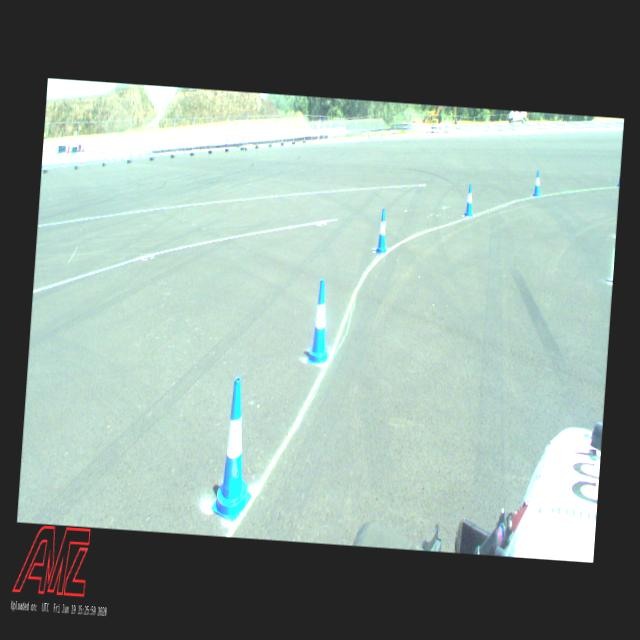blue_cone: (210, 377, 260, 522), (306, 278, 334, 362), (376, 208, 389, 252), (464, 183, 474, 216), (533, 170, 541, 196)
